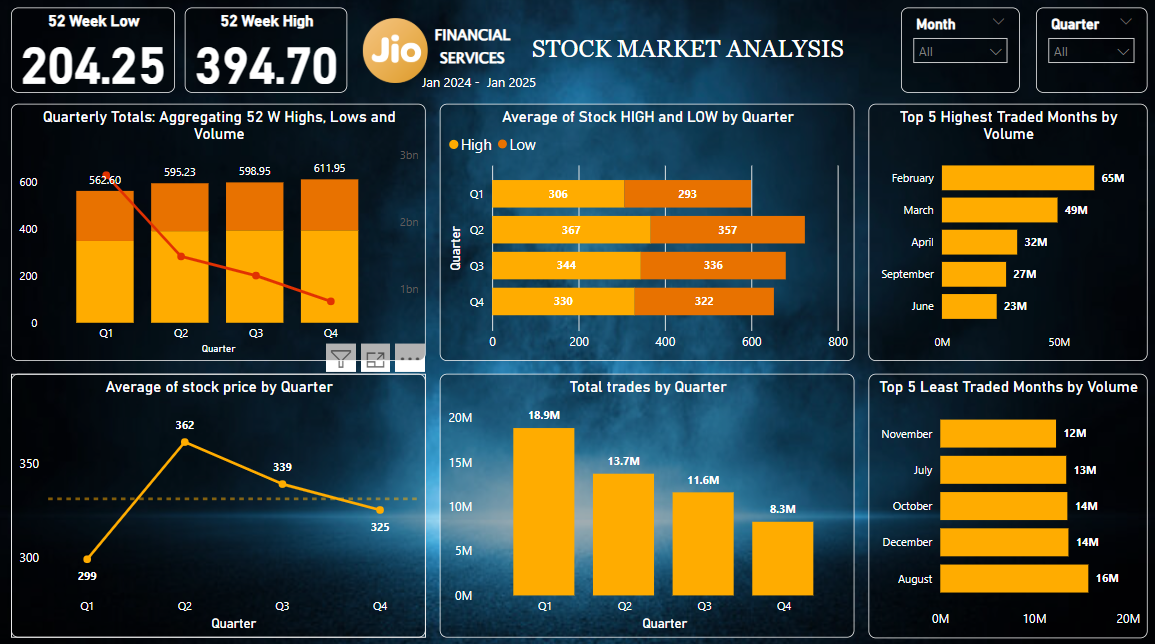

This screenshot's page, from the dashboard's own definition file:
{"tool":"powerbi","page":{"name":"Page 1","canvas":[1280,720],"ordinal":0},"visuals":[{"type":"slicer","fields":{"Values":["Quote-Equity-JIOFIN-EQ-27-01-2024-to-27-01-2025.Quarter"]},"box":[1141.7,13.7,122.1,93.3],"z":0},{"type":"card","title":"52 Week Low","fields":{"Values":["Min(Quote-Equity-JIOFIN-EQ-27-01-2024-to-27-01-2025.52W L )"]},"box":[16.5,13.7,179.8,93.3],"z":2000},{"type":"card","title":"52 Week High","fields":{"Values":["Max(Quote-Equity-JIOFIN-EQ-27-01-2024-to-27-01-2025.52W H )"]},"box":[207.2,13.7,178.4,93.3],"z":3000},{"type":"lineChart","title":"Average of stock price  by Quarter","fields":{"Category":["Quote-Equity-JIOFIN-EQ-27-01-2024-to-27-01-2025.Quarter"],"Y":["Avg(Quote-Equity-JIOFIN-EQ-27-01-2024-to-27-01-2025.ltp )"]},"box":[16.5,415.8,455.6,289.5],"z":4000},{"type":"clusteredColumnChart","title":"Total trades by Quarter","fields":{"Y":["Sum(Quote-Equity-JIOFIN-EQ-27-01-2024-to-27-01-2025.No of trades )"],"Category":["Quote-Equity-JIOFIN-EQ-27-01-2024-to-27-01-2025.Quarter"]},"box":[487.1,415.8,455.6,289.5],"z":5000},{"type":"barChart","title":"Average of Stock HIGH and LOW  by Quarter","fields":{"Category":["Quote-Equity-JIOFIN-EQ-27-01-2024-to-27-01-2025.Quarter"],"Y":["Avg(Quote-Equity-JIOFIN-EQ-27-01-2024-to-27-01-2025.HIGH )","Avg(Quote-Equity-JIOFIN-EQ-27-01-2024-to-27-01-2025.LOW )"]},"box":[487.1,119.4,455.6,282.7],"z":6000},{"type":"lineStackedColumnComboChart","title":"Quarterly Totals: Aggregating  52 W Highs, Lows and Volume","fields":{"Y":["Avg(Quote-Equity-JIOFIN-EQ-27-01-2024-to-27-01-2025.52W H )","Avg(Quote-Equity-JIOFIN-EQ-27-01-2024-to-27-01-2025.52W L )"],"Category":["Quote-Equity-JIOFIN-EQ-27-01-2024-to-27-01-2025.Quarter"],"Y2":["Sum(Quote-Equity-JIOFIN-EQ-27-01-2024-to-27-01-2025.VOLUME )"]},"box":[16.5,119.4,455.6,282.7],"z":7000},{"type":"barChart","title":"Top 5 Highest Traded Months by Volume","fields":{"Category":["Quote-Equity-JIOFIN-EQ-27-01-2024-to-27-01-2025.Month"],"Y":["Avg(Quote-Equity-JIOFIN-EQ-27-01-2024-to-27-01-2025.VOLUME )"]},"box":[957.8,119.4,306,282.7],"z":8000},{"type":"image","box":[397.9,20.6,81,81],"z":9000},{"type":"textbox","box":[462.4,27.4,120.8,68.6],"z":10000},{"type":"textbox","box":[462.4,81,146.8,31.6],"z":11000},{"type":"textbox","box":[583.2,38.4,426.8,46.7],"z":12000},{"type":"barChart","title":"Top 5 Least Traded Months by Volume","fields":{"Category":["Quote-Equity-JIOFIN-EQ-27-01-2024-to-27-01-2025.Month"],"Y":["Avg(Quote-Equity-JIOFIN-EQ-27-01-2024-to-27-01-2025.VOLUME )"]},"box":[958,416,306,290],"z":13000},{"type":"slicer","fields":{"Values":["Quote-Equity-JIOFIN-EQ-27-01-2024-to-27-01-2025.Month"]},"box":[993.5,13.7,130.4,93.3],"z":13001}]}

Visuals, with their boxes in screenshot pixels (x1, y1, x2, y2), scaled from the page's 1280x720 canvas onto the 1155x644 screenshot:
slicer - Quote-Equity-JIOFIN-EQ-27-01-2024-to-27-01-2025.Quarter: rect(1030, 12, 1140, 96)
"52 Week Low" card: rect(15, 12, 177, 96)
"52 Week High" card: rect(187, 12, 348, 96)
"Average of stock price  by Quarter" lineChart: rect(15, 372, 426, 631)
"Total trades by Quarter" clusteredColumnChart: rect(440, 372, 851, 631)
"Average of Stock HIGH and LOW  by Quarter" barChart: rect(440, 107, 851, 360)
"Quarterly Totals: Aggregating  52 W Highs, Lows and Volume" lineStackedColumnComboChart: rect(15, 107, 426, 360)
"Top 5 Highest Traded Months by Volume" barChart: rect(864, 107, 1140, 360)
image: rect(359, 18, 432, 91)
textbox: rect(417, 25, 526, 86)
textbox: rect(417, 72, 550, 101)
textbox: rect(526, 34, 911, 76)
"Top 5 Least Traded Months by Volume" barChart: rect(864, 372, 1141, 631)
slicer - Quote-Equity-JIOFIN-EQ-27-01-2024-to-27-01-2025.Month: rect(896, 12, 1014, 96)
